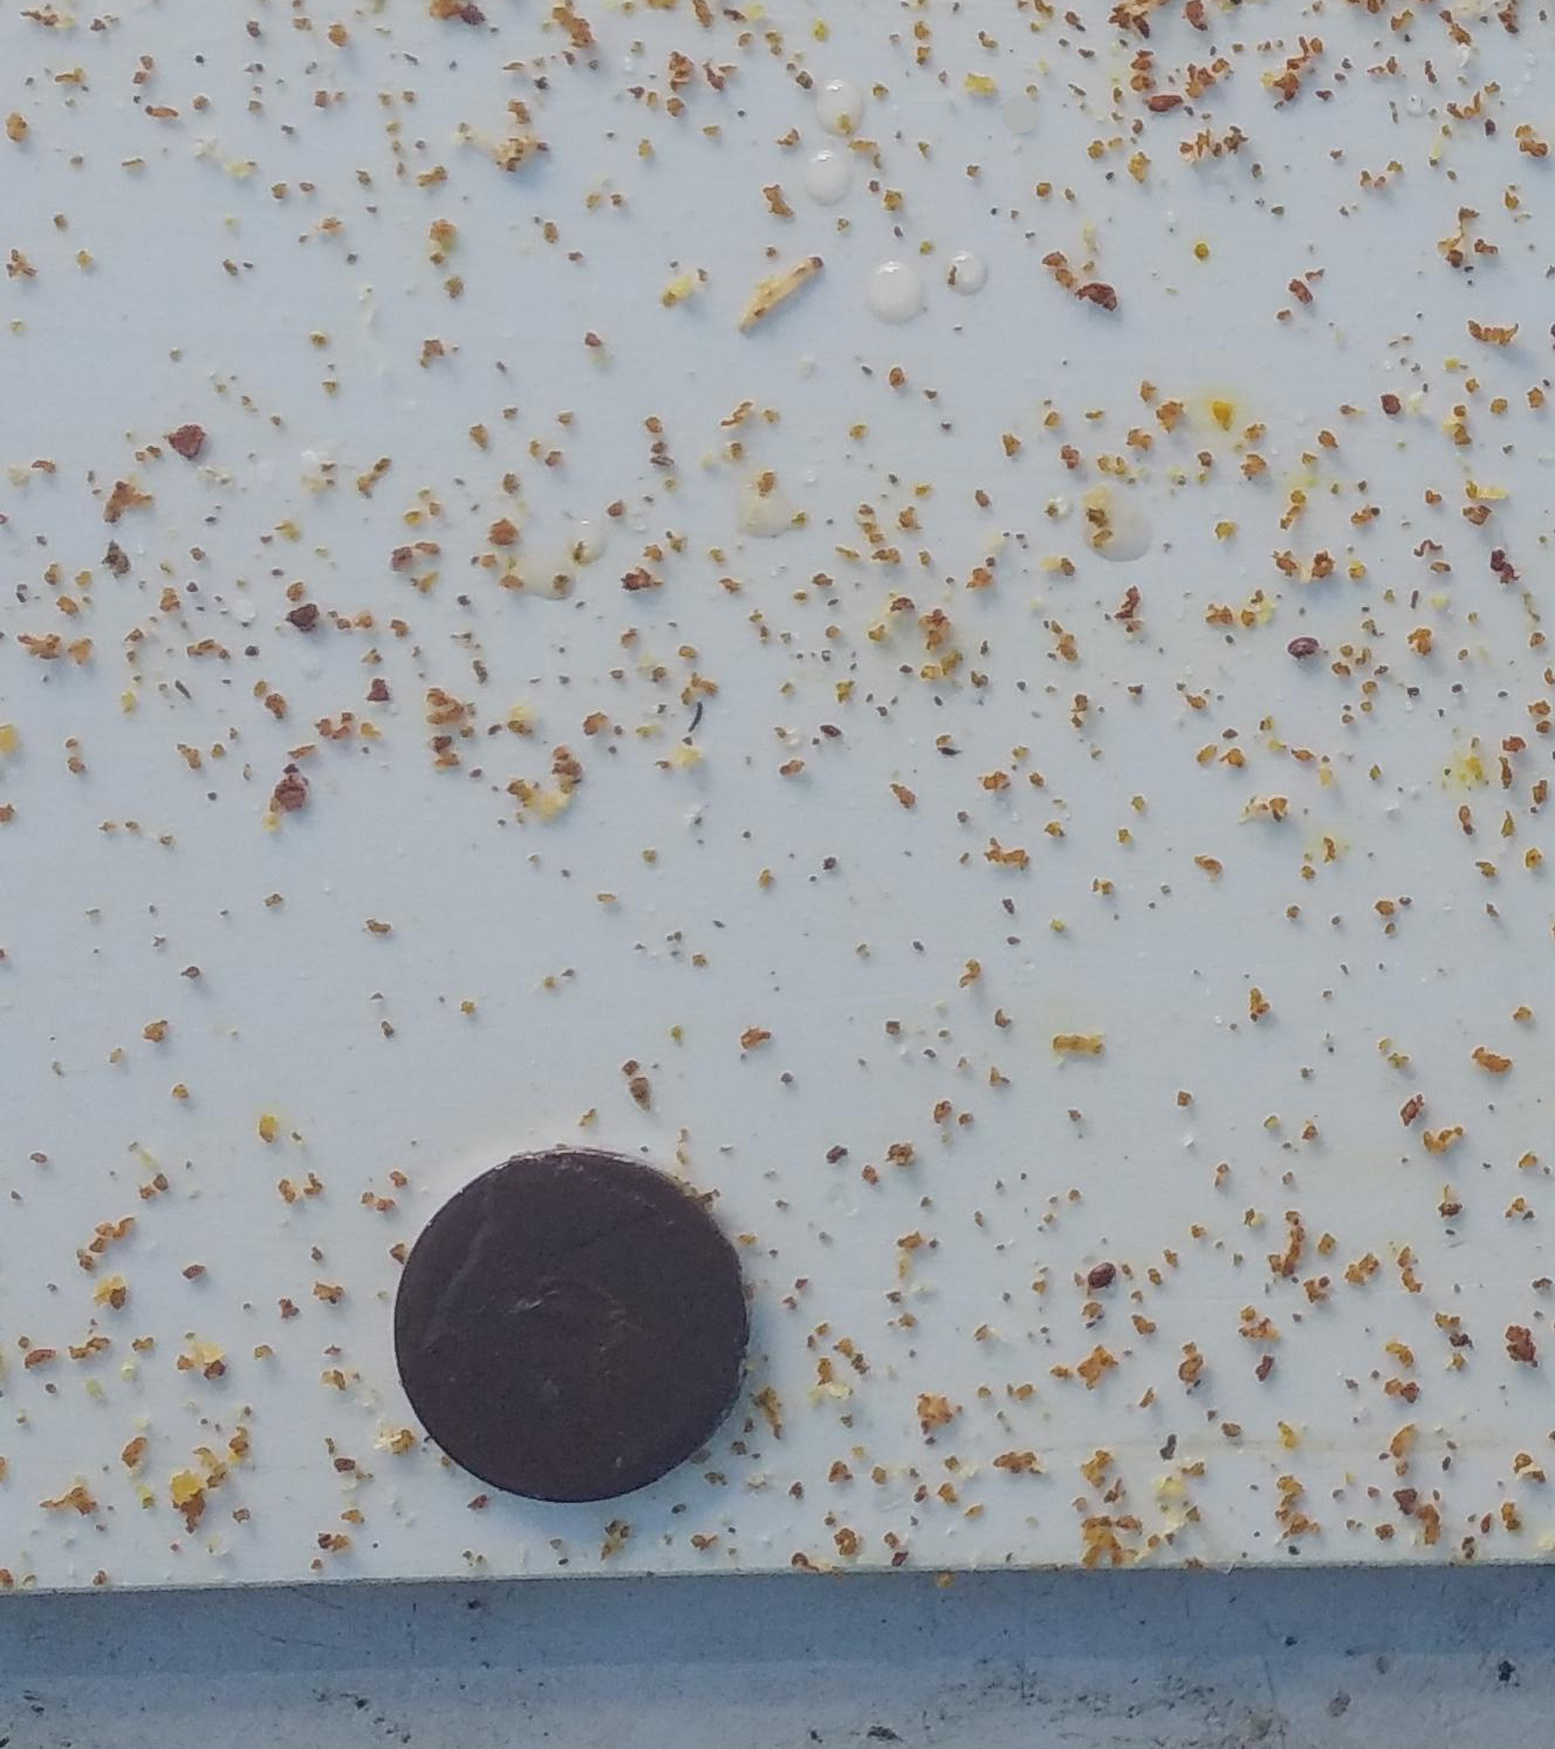Varroa: (1286, 635, 1315, 664), (1088, 1266, 1108, 1284)
